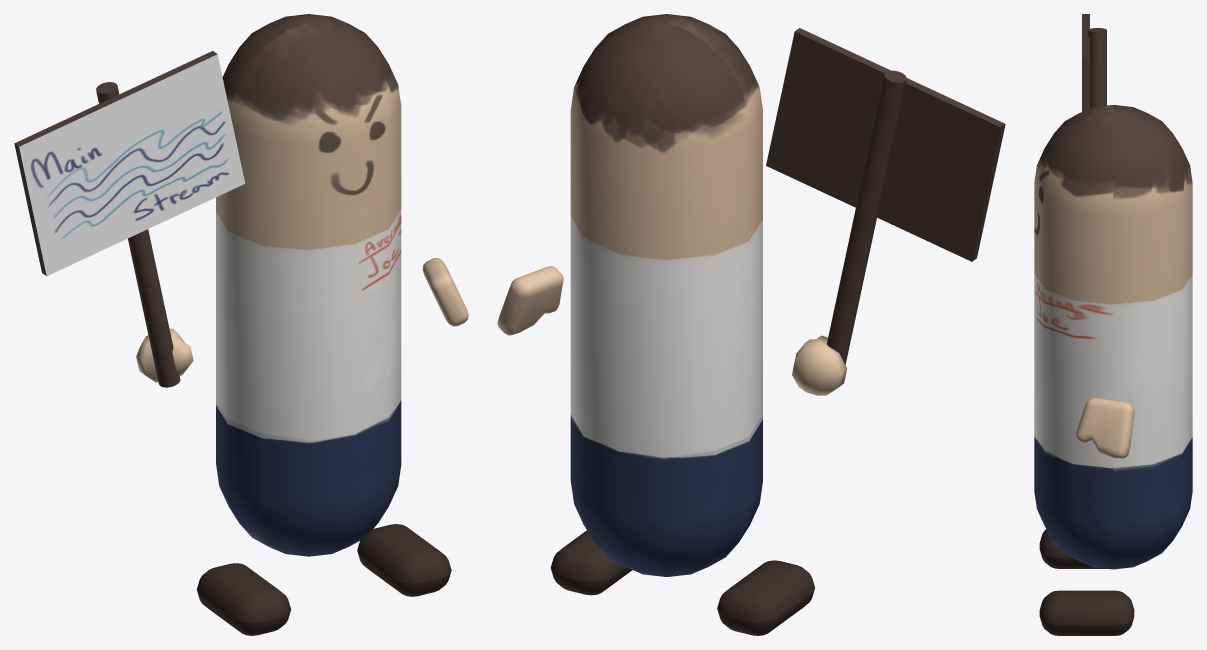
Rendered from mainstreamEnemy.FBX.
The picture shows the model from 3 angles, left to right: view 1: azimuth 30°, elevation 25°; view 2: azimuth 150°, elevation 25°; view 3: azimuth 270°, elevation 25°; orthographic projection. The views are drawn at different scales.
Parts seen in each view (by area): view 1: Sphere001; view 2: Sphere001; view 3: Sphere001.
Boxes of the visible parts, box(x1,y1,x2,y2) form: Sphere001: box(14, 14, 468, 635); Sphere001: box(497, 14, 1005, 635); Sphere001: box(1034, 14, 1192, 635).
Size of the model in its own units: 174 by 205 by 60.
1 material, 1 textured.
